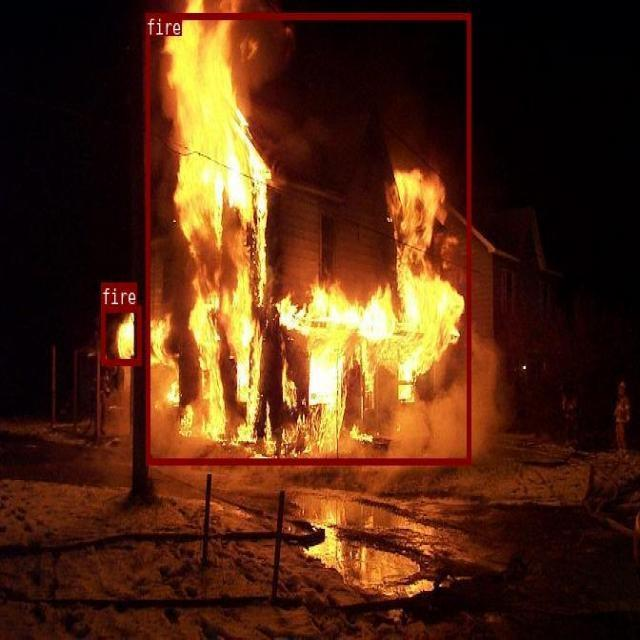fire: (146, 12, 470, 464), (101, 306, 141, 364)
